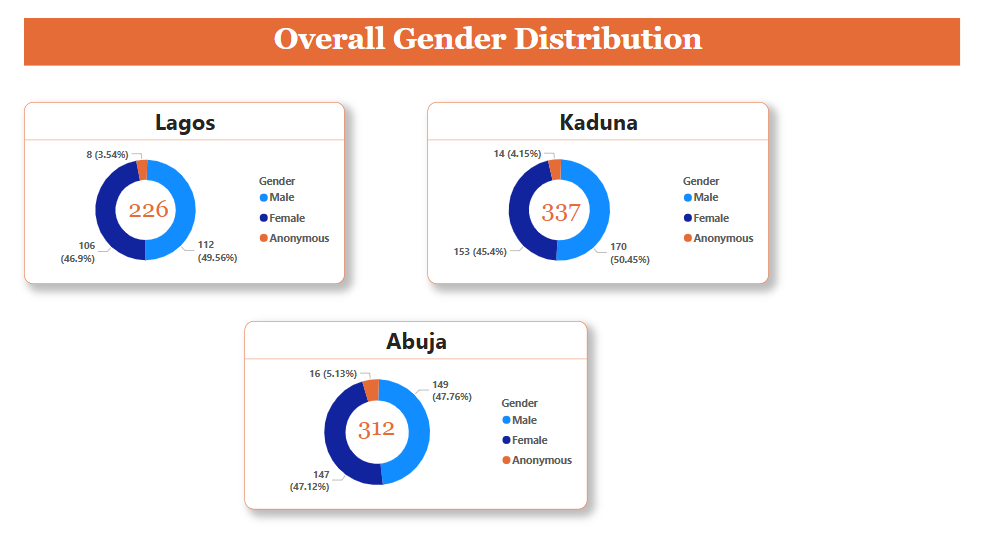

The dashboard page shown, as its layout file describes it:
{"tool":"powerbi","page":{"name":"Page 1","canvas":[1280,720],"ordinal":0},"visuals":[{"type":"donutChart","title":"Lagos","fields":{"Category":["Palmoria Group emp-data.Gender"],"Y":["CountNonNull(Palmoria Group emp-data.Location)"]},"box":[45.8,143.4,404.3,229],"z":0},{"type":"textbox","box":[45.8,37.8,1179.1,59.8],"z":1000},{"type":"donutChart","title":"Kaduna","fields":{"Category":["Palmoria Group emp-data.Gender"],"Y":["CountNonNull(Palmoria Group emp-data.Location)"]},"box":[553.7,143.4,430.2,229],"z":2000},{"type":"donutChart","title":"Abuja","fields":{"Category":["Palmoria Group emp-data.Gender"],"Y":["CountNonNull(Palmoria Group emp-data.Location)"]},"box":[322.7,420.3,432.2,237],"z":3000},{"type":"card","fields":{"Values":["CountNonNull(Palmoria Group emp-data.Location)"]},"box":[456.1,527.8,67.7,47.8],"z":4000},{"type":"card","fields":{"Values":["CountNonNull(Palmoria Group emp-data.Location)"]},"box":[687.1,251,67.7,49.8],"z":5000},{"type":"card","fields":{"Values":["CountNonNull(Palmoria Group emp-data.Location)"]},"box":[167.3,253,67.7,47.8],"z":6000}]}

Visuals, with their boxes in screenshot pixels (x1, y1, x2, y2), scaled from the page's 1280x720 canvas onto the 990x546 screenshot:
"Lagos" donutChart: BBox(35, 109, 348, 282)
textbox: BBox(35, 29, 947, 74)
"Kaduna" donutChart: BBox(428, 109, 761, 282)
"Abuja" donutChart: BBox(250, 319, 584, 498)
card - CountNonNull(Palmoria Group emp-data.Location): BBox(353, 400, 405, 436)
card - CountNonNull(Palmoria Group emp-data.Location): BBox(531, 190, 584, 228)
card - CountNonNull(Palmoria Group emp-data.Location): BBox(129, 192, 182, 228)
